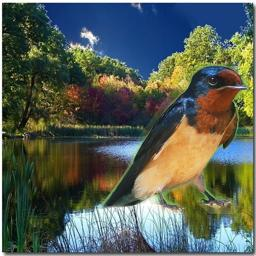Swallow: (99, 64, 249, 214)
